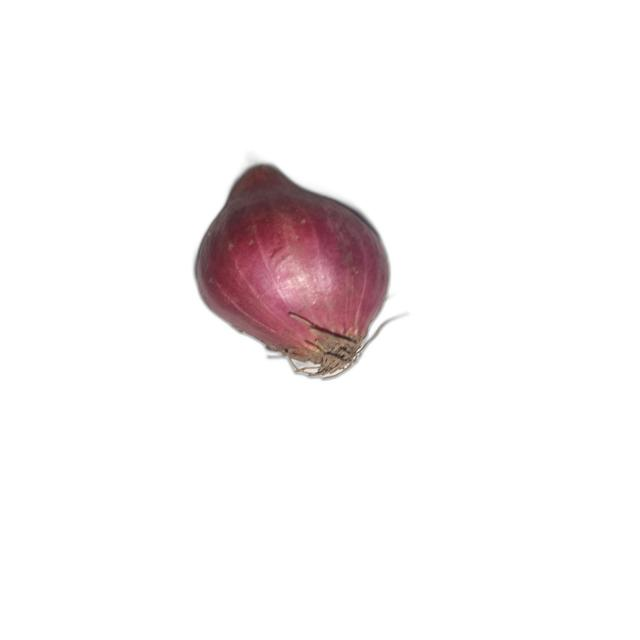onion: (192, 162, 406, 382)
